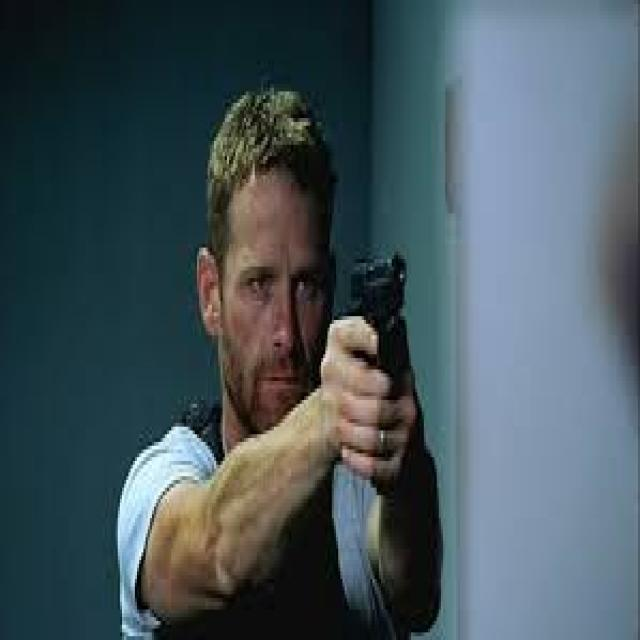gun: (342, 232, 424, 436)
